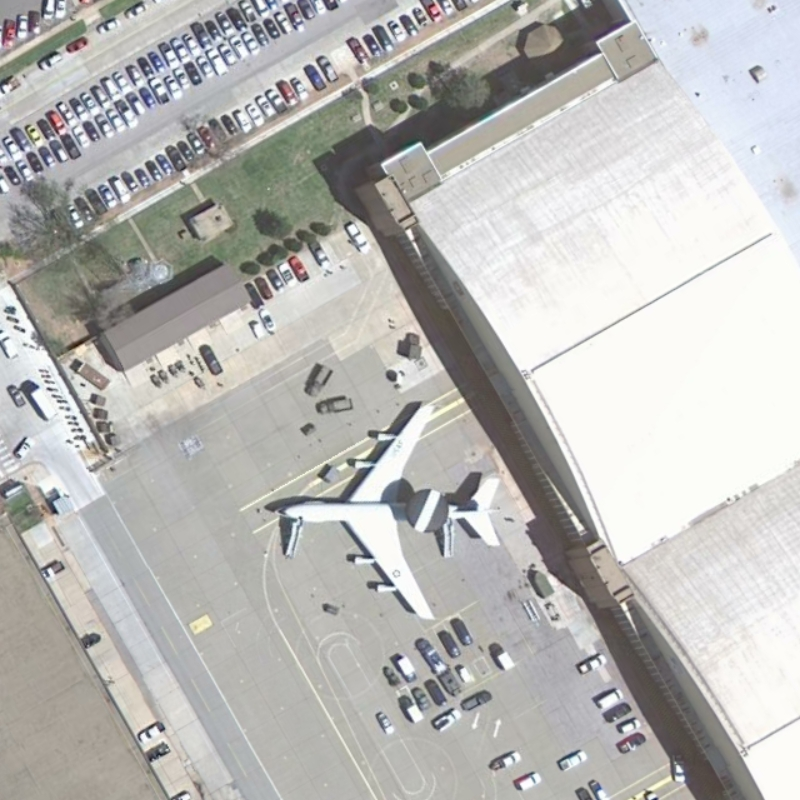A7: (262, 392, 509, 625)
